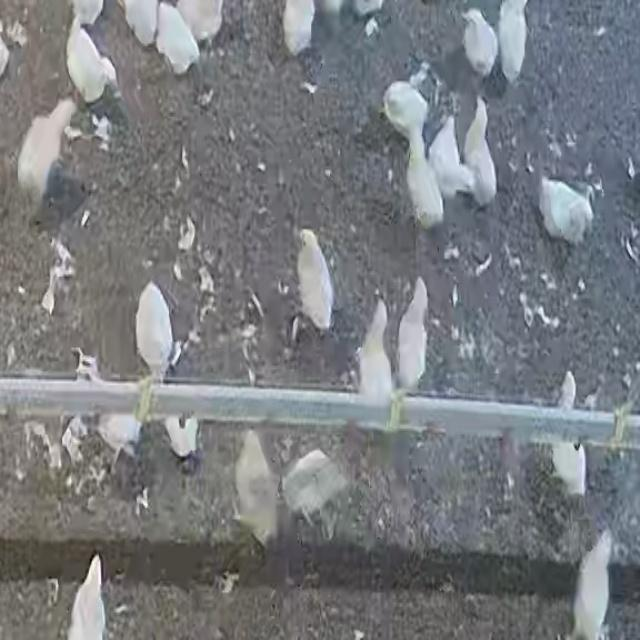chicken: (20, 98, 73, 207), (282, 446, 354, 524), (232, 432, 276, 552), (52, 553, 112, 640), (571, 525, 616, 638), (554, 368, 592, 498), (290, 226, 337, 331), (66, 14, 112, 108), (430, 114, 478, 204), (537, 174, 597, 246), (402, 128, 445, 228), (134, 283, 172, 393), (397, 277, 430, 391), (464, 98, 498, 208), (358, 301, 392, 409), (154, 3, 200, 76), (496, 1, 534, 87), (382, 78, 427, 140), (459, 5, 499, 73)
